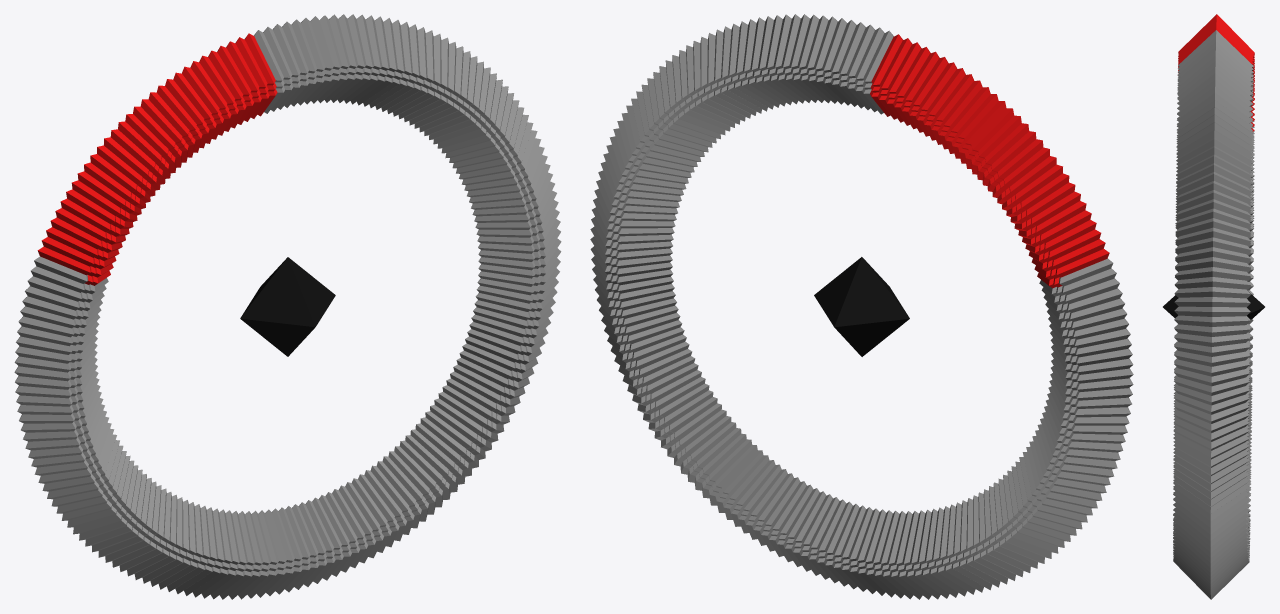
Rendered from local_feasible_centers.obj.
3 renders of one model, left to right at view 1: azimuth 30°, elevation 25°; view 2: azimuth 150°, elevation 25°; view 3: azimuth 270°, elevation 25°, orthographic. The views are drawn at different scales.
Visible parts, largest first — view 1: rejected_candidates, feasible_candidates, target_point_000091; view 2: rejected_candidates, feasible_candidates, target_point_000091; view 3: rejected_candidates, feasible_candidates, target_point_000091.
Part boxes in pixels (<box>): rejected_candidates: <box>14,14,561,599</box>; feasible_candidates: <box>37,33,277,285</box>; target_point_000091: <box>240,257,335,356</box>; rejected_candidates: <box>590,14,1133,599</box>; feasible_candidates: <box>870,34,1109,288</box>; target_point_000091: <box>814,257,909,356</box>; rejected_candidates: <box>1173,30,1254,599</box>; feasible_candidates: <box>1178,14,1254,131</box>; target_point_000091: <box>1163,291,1264,319</box>.
Size of the model in its own units: 0.023 by 0.023 by 0.00405.
